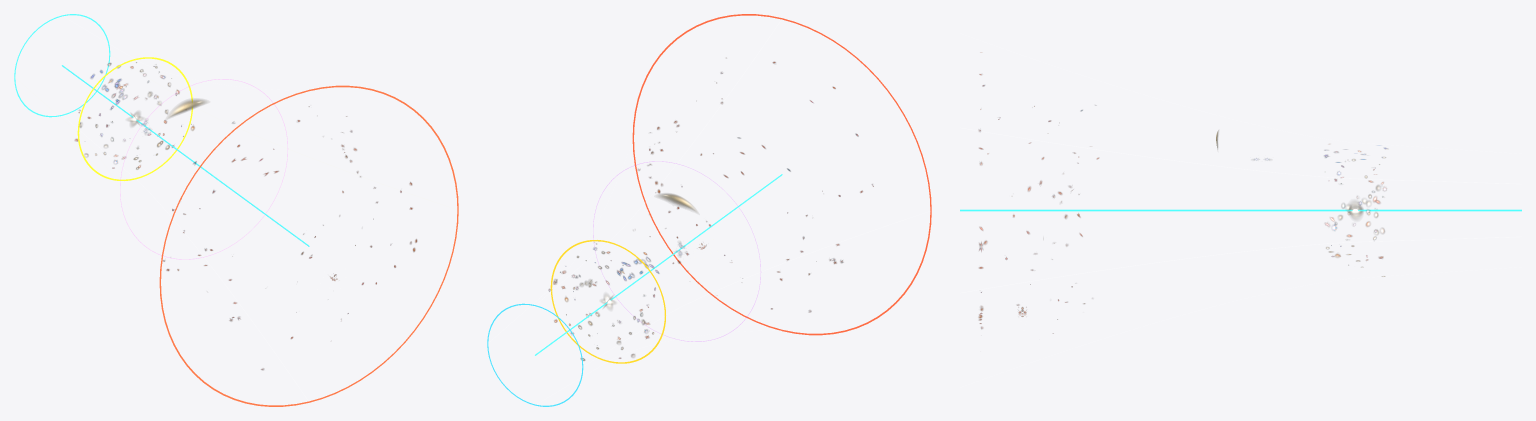
Rendered from jwst_minimal_accurate_cosmos.glb.
3 renders of one model, left to right at view 1: azimuth 30°, elevation 25°; view 2: azimuth 150°, elevation 25°; view 3: azimuth 270°, elevation 25°, orthographic. The views are drawn at different scales.
Visible parts, largest first — view 1: 12_Big_Bang_Horizon_Ring, 07_Cluster_Galaxies_Zone, 03_Einstein_Lens_Ring, 01_Optical_Axis_Spine, 02_Observer_Gate_JWST; view 2: 12_Big_Bang_Horizon_Ring, 07_Cluster_Galaxies_Zone, 03_Einstein_Lens_Ring, 01_Optical_Axis_Spine, 02_Observer_Gate_JWST; view 3: 01_Optical_Axis_Spine, 07_Cluster_Galaxies_Zone.
Part boxes in pixels (<box>): 12_Big_Bang_Horizon_Ring: <box>159,85,458,406</box>; 07_Cluster_Galaxies_Zone: <box>74,62,194,169</box>; 03_Einstein_Lens_Ring: <box>77,57,192,180</box>; 01_Optical_Axis_Spine: <box>62,65,309,246</box>; 02_Observer_Gate_JWST: <box>14,14,110,117</box>; 12_Big_Bang_Horizon_Ring: <box>632,14,931,335</box>; 07_Cluster_Galaxies_Zone: <box>548,241,659,360</box>; 03_Einstein_Lens_Ring: <box>550,240,665,363</box>; 01_Optical_Axis_Spine: <box>535,174,782,355</box>; 02_Observer_Gate_JWST: <box>487,303,583,406</box>; 01_Optical_Axis_Spine: <box>960,209,1521,211</box>; 07_Cluster_Galaxies_Zone: <box>1324,144,1387,276</box>.
Bounding box in the file's own units: 189 × 189 × 270.
Materials: 1 (1 with a texture image).
